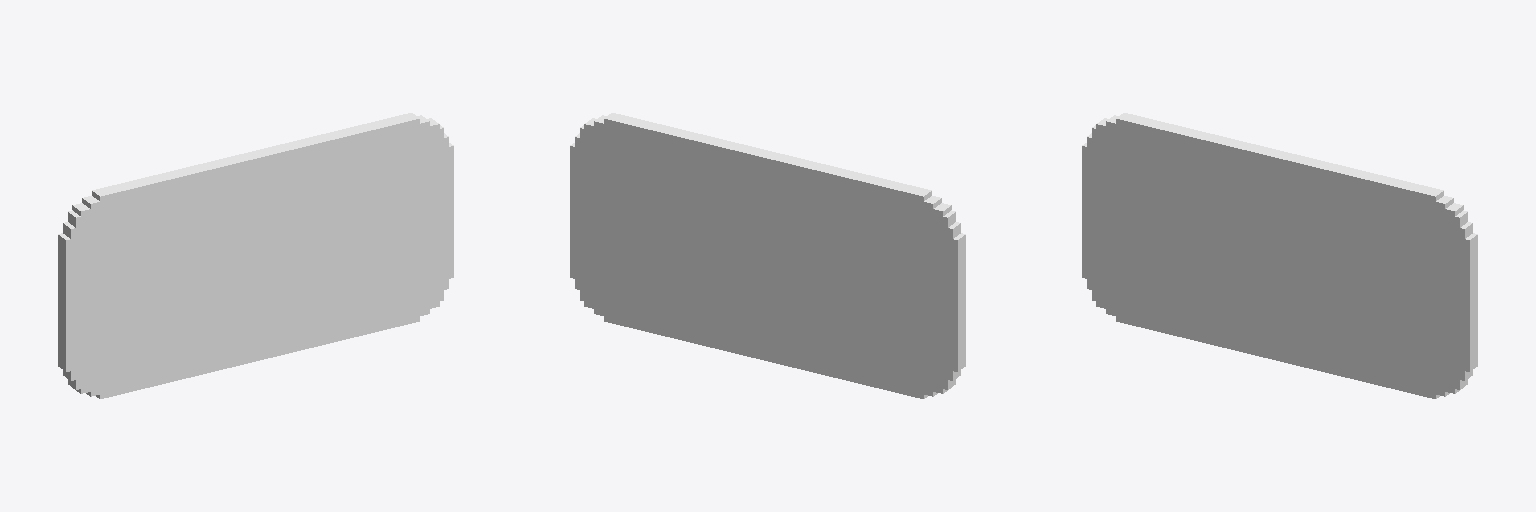
The model's file is screen_norm.obj.
3 views of the same model, side by side, from view 1: azimuth 30°, elevation 25°; view 2: azimuth 150°, elevation 25°; view 3: azimuth 330°, elevation 25° (orthographic).
Parts seen in each view (by area): view 1: object 1; view 2: object 1; view 3: object 1.
Part boxes in pixels (left/top/right/bottom): object 1: left=58, top=113, right=453, bottom=398; object 1: left=570, top=113, right=965, bottom=398; object 1: left=1082, top=113, right=1477, bottom=398.
Bounding box in the file's own units: 8 × 4 × 0.3.